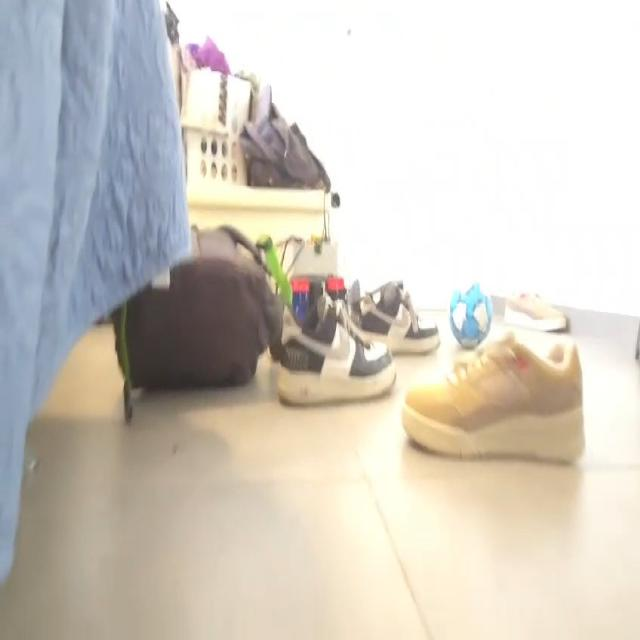Robot: (276, 231, 348, 326)
